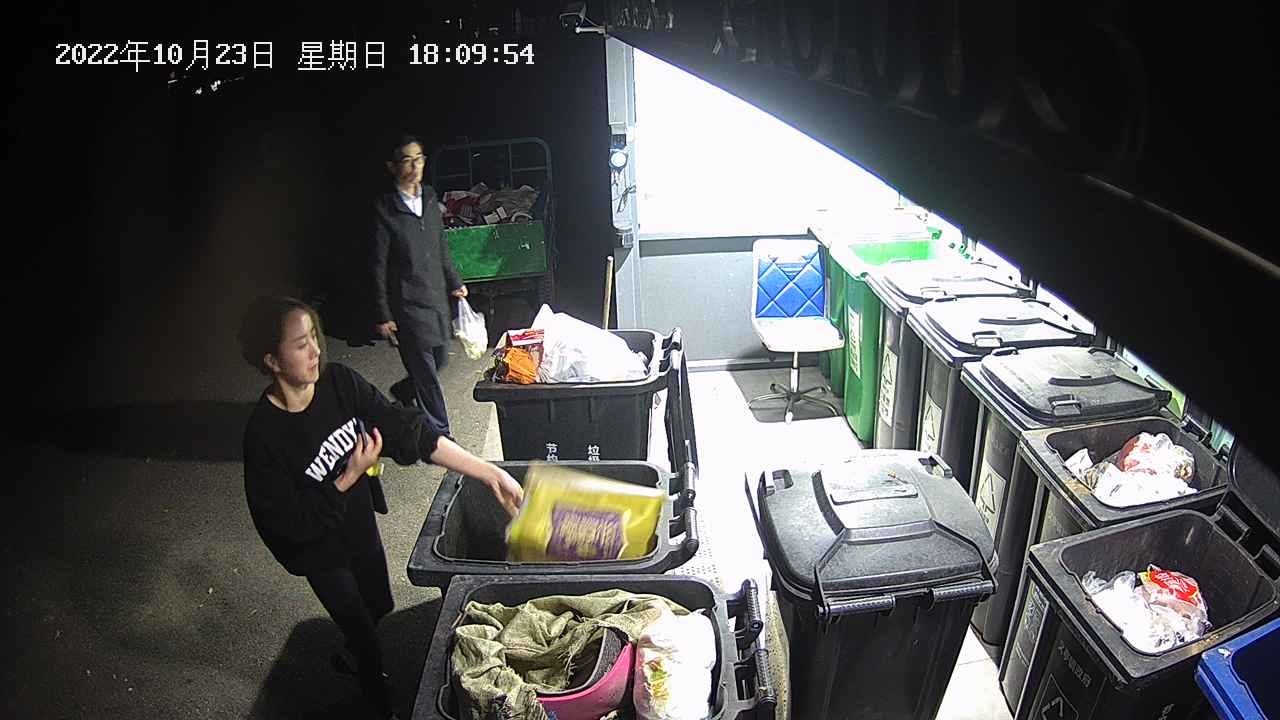garbage-bag: (450, 293, 489, 363)
person: (231, 291, 526, 712), (366, 133, 469, 450)
